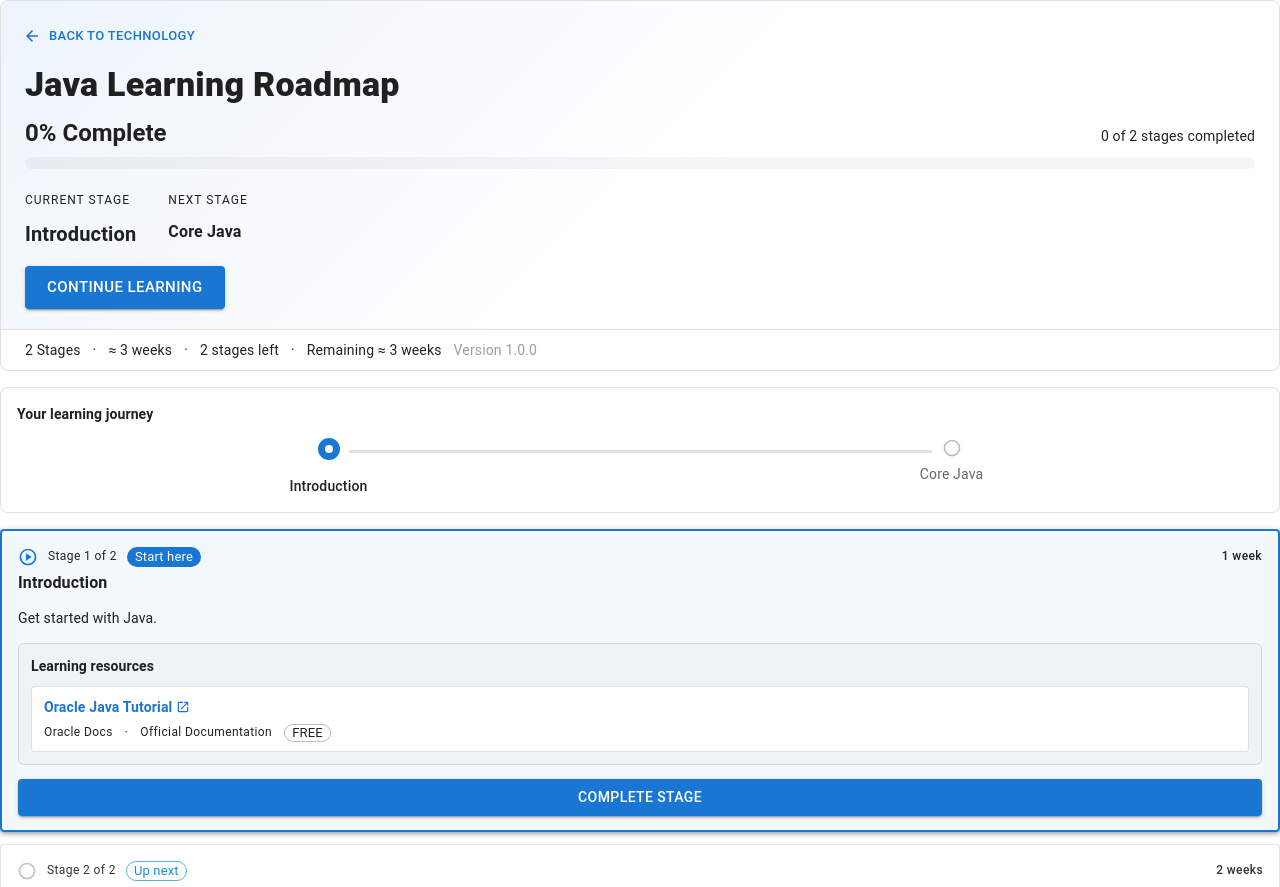
Test: RoadmapPage › completes the current stage and refreshes progress
Click the button "Complete Stage".
click(640, 797)  # box [18, 779, 1262, 816]
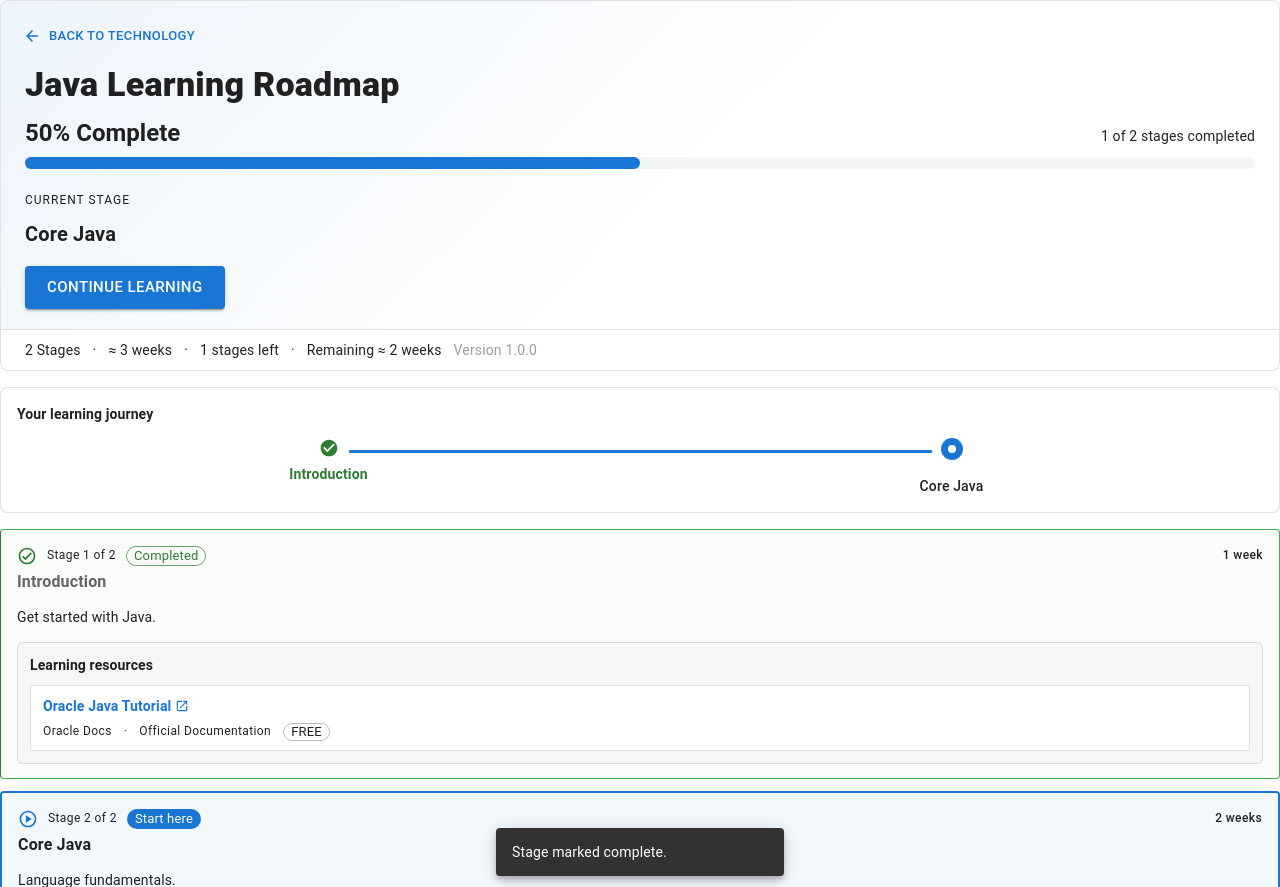
expect the text "Stage marked complete." is shown: met, box [512, 844, 667, 860]
